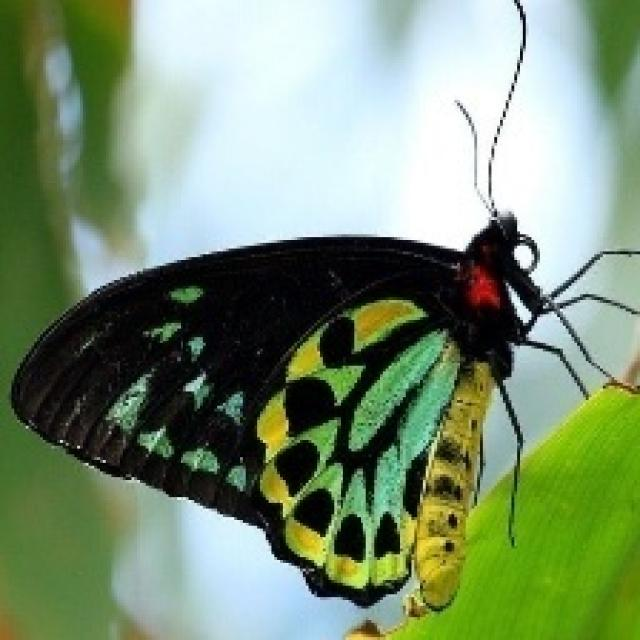butterfly: (13, 2, 640, 610)
